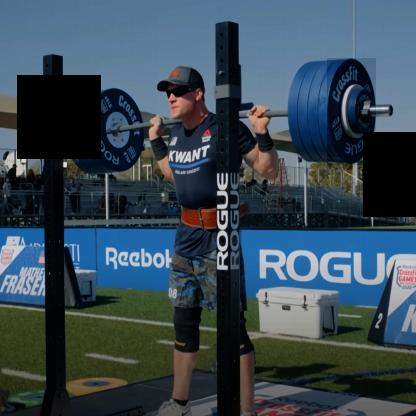barbell: (328, 59, 377, 166)
